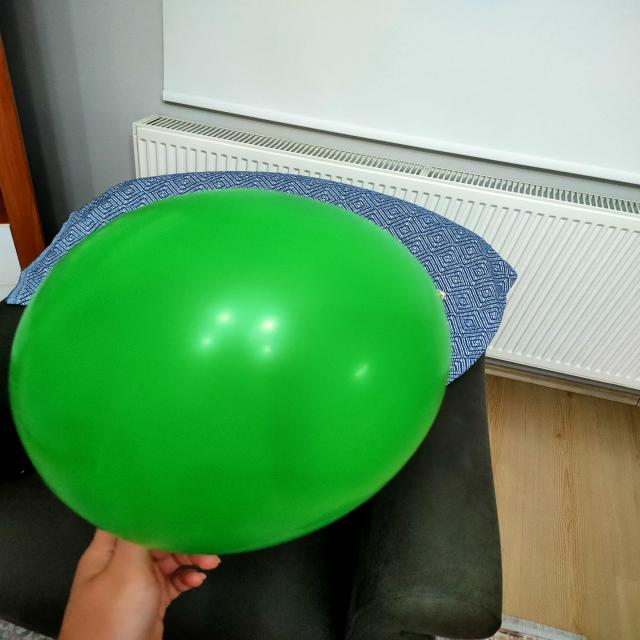green: (12, 190, 452, 555)
